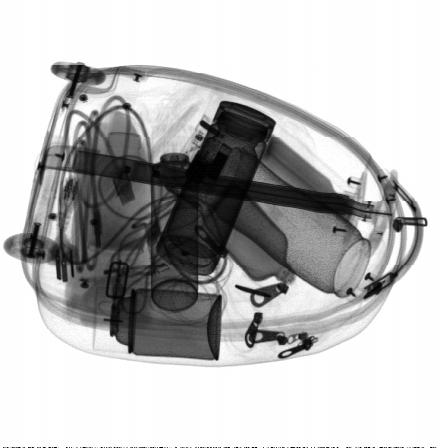Sprayer: (93, 286, 222, 361), (150, 123, 199, 312)
